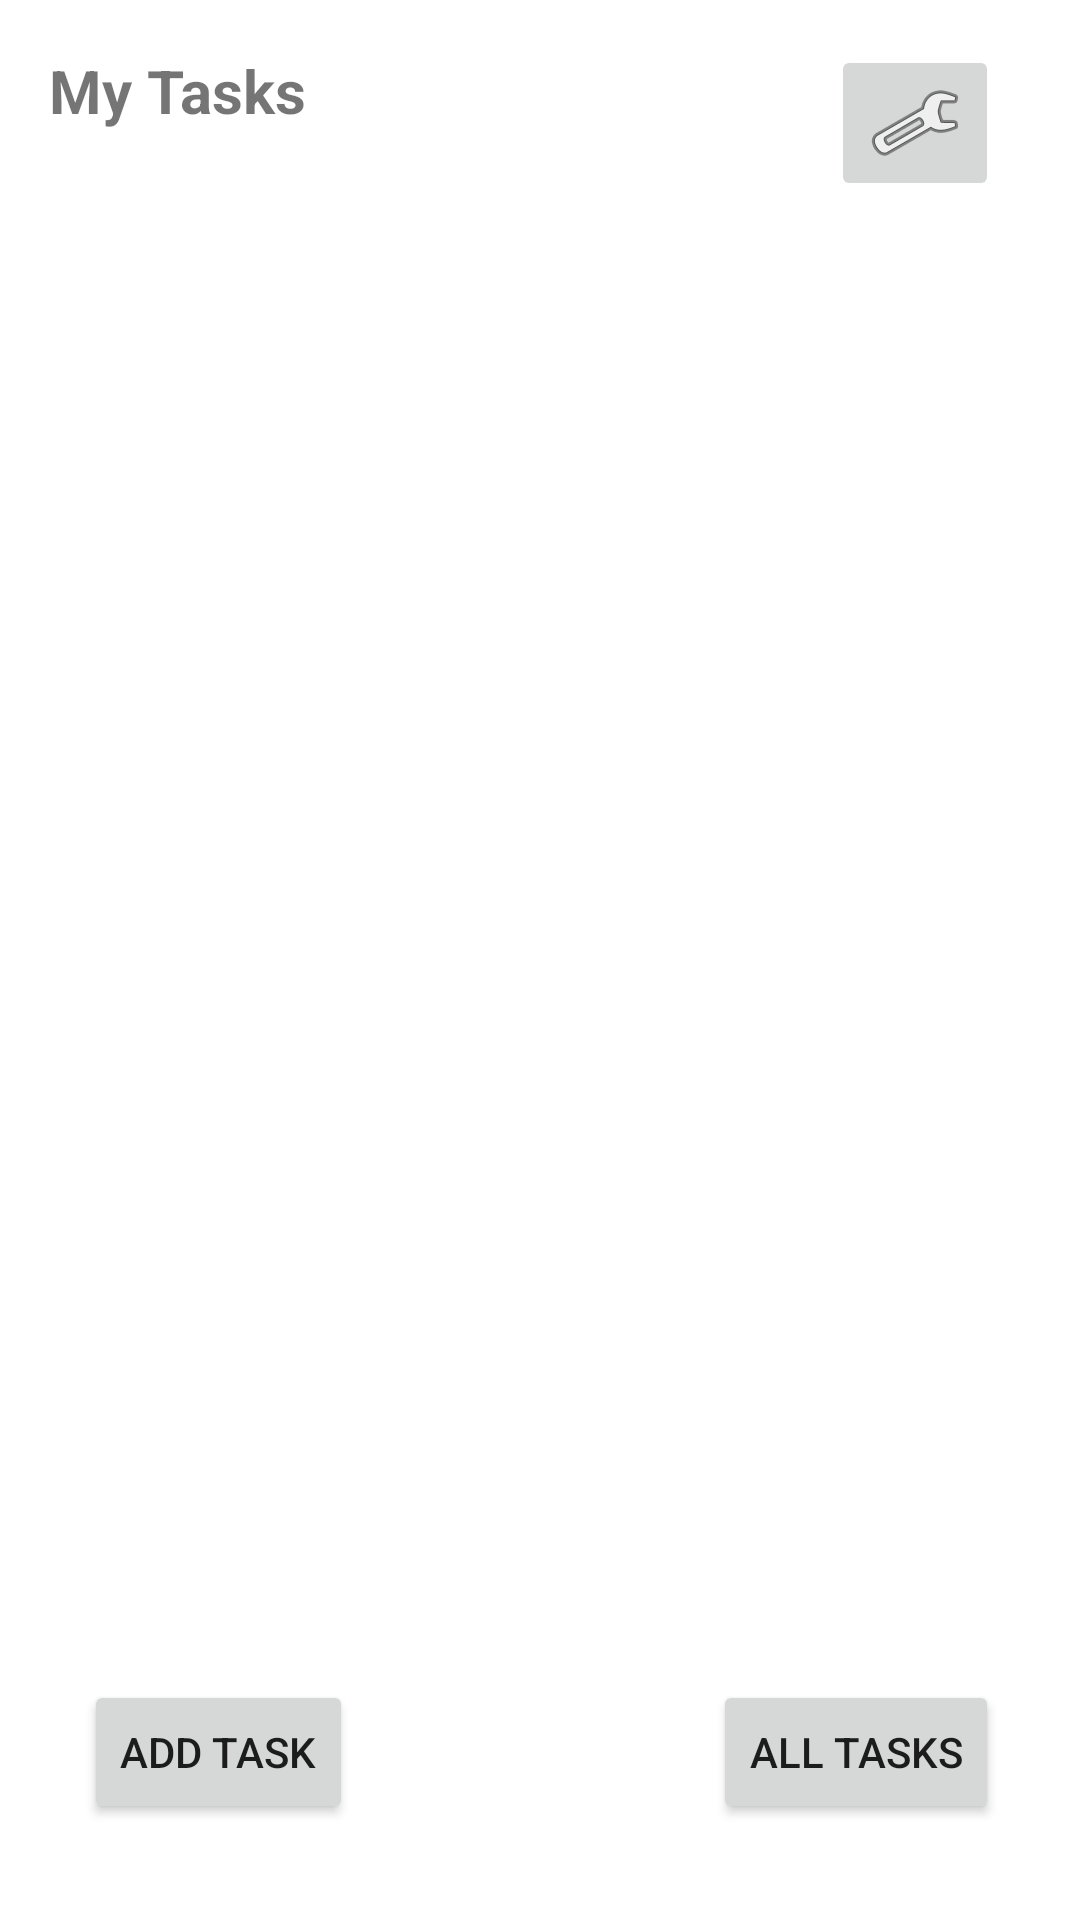

Point at icon controls on the screen. Image size 1080px×1920px, points as point (x, y).
Settings: point (915, 123)
